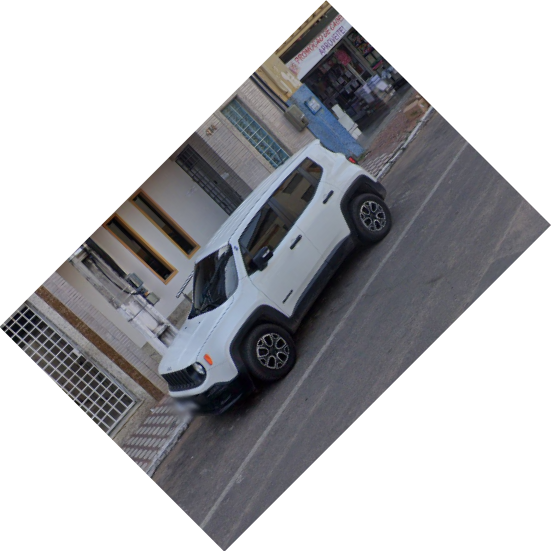car: (153, 138, 390, 410)
